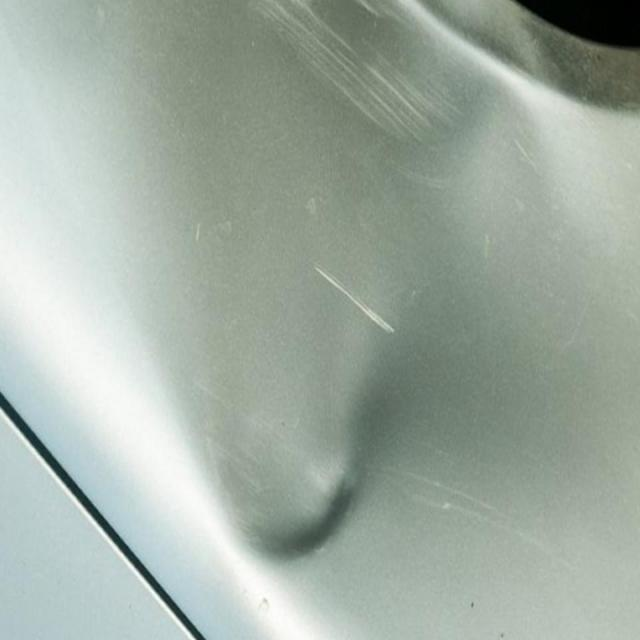dent: (194, 336, 414, 594)
